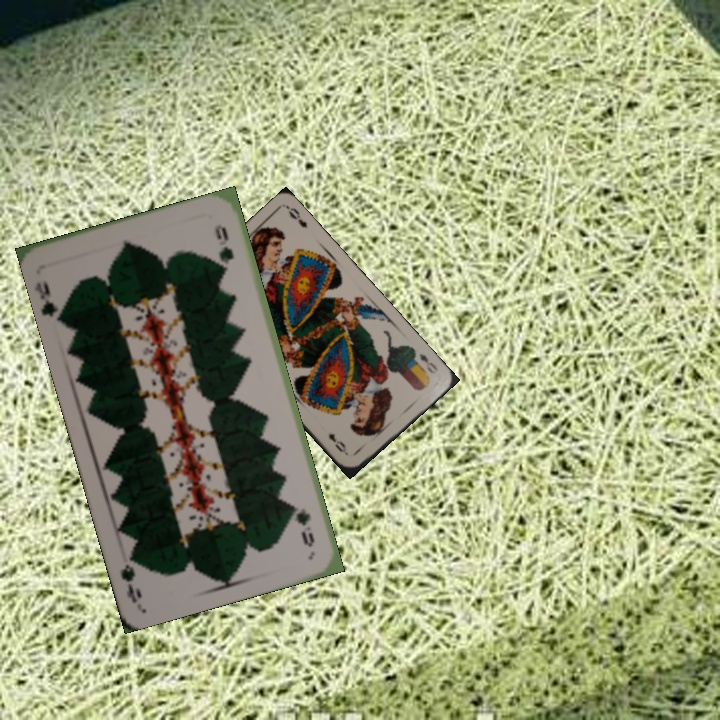EO: (415, 350, 440, 376)
G9: (32, 277, 67, 324), (289, 501, 317, 550)
